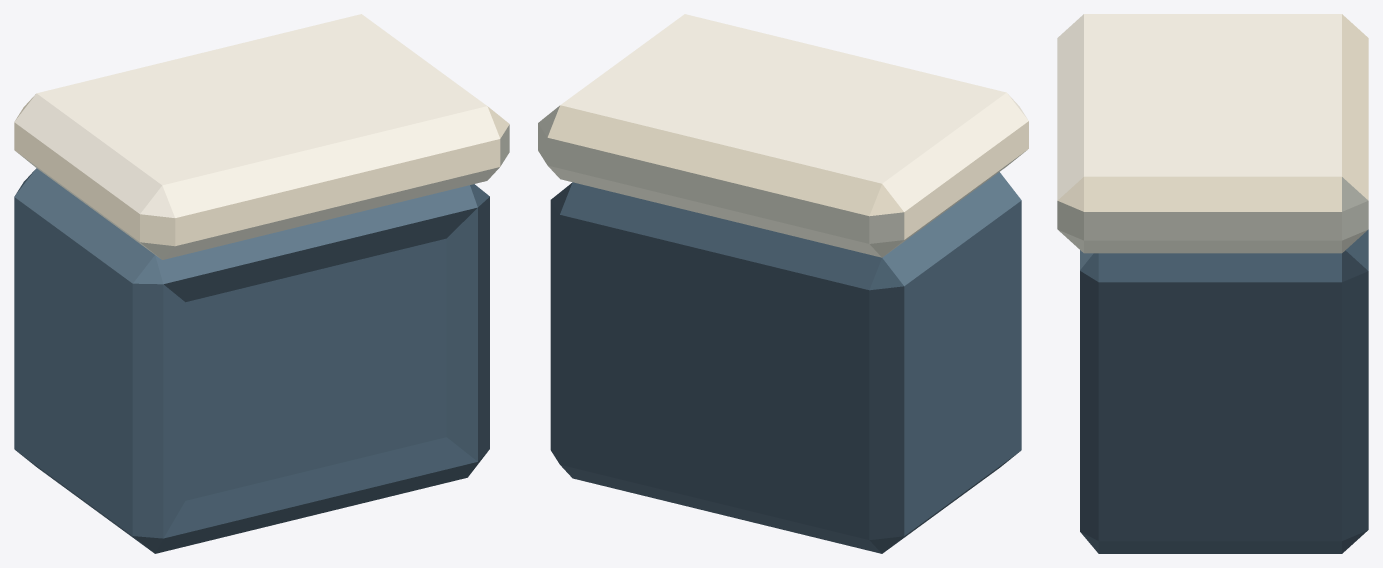
The model's file is Terrain_TopRun1R.gltf.
3 renders of one model, left to right at view 1: azimuth 30°, elevation 25°; view 2: azimuth 150°, elevation 25°; view 3: azimuth 270°, elevation 25°, orthographic. The views are drawn at different scales.
Visible parts, largest first — view 1: Terrain_TopRun1R_baked; view 2: Terrain_TopRun1R_baked; view 3: Terrain_TopRun1R_baked.
Part boxes in pixels (x1=…): Terrain_TopRun1R_baked: x1=14, y1=14, x2=509, y2=553; Terrain_TopRun1R_baked: x1=538, y1=14, x2=1028, y2=553; Terrain_TopRun1R_baked: x1=1057, y1=14, x2=1368, y2=553.
Size of the model in its own units: 1.04 by 1 by 0.735.
